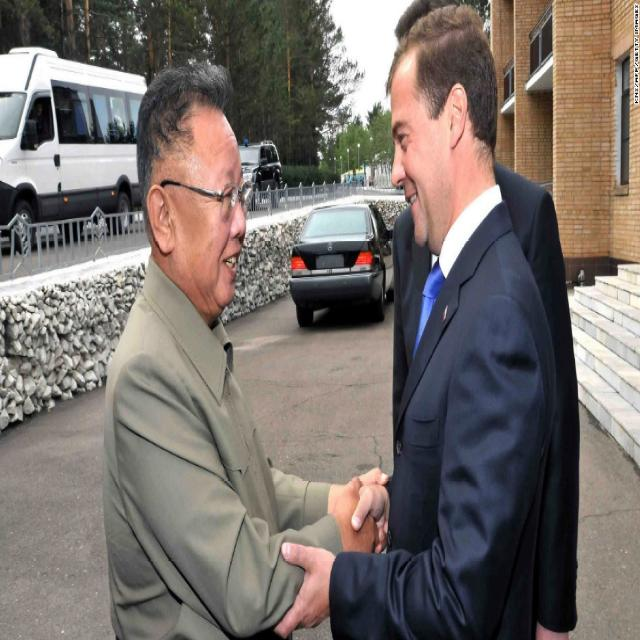body: (272, 1, 559, 640), (96, 58, 392, 640), (368, 1, 559, 640)
